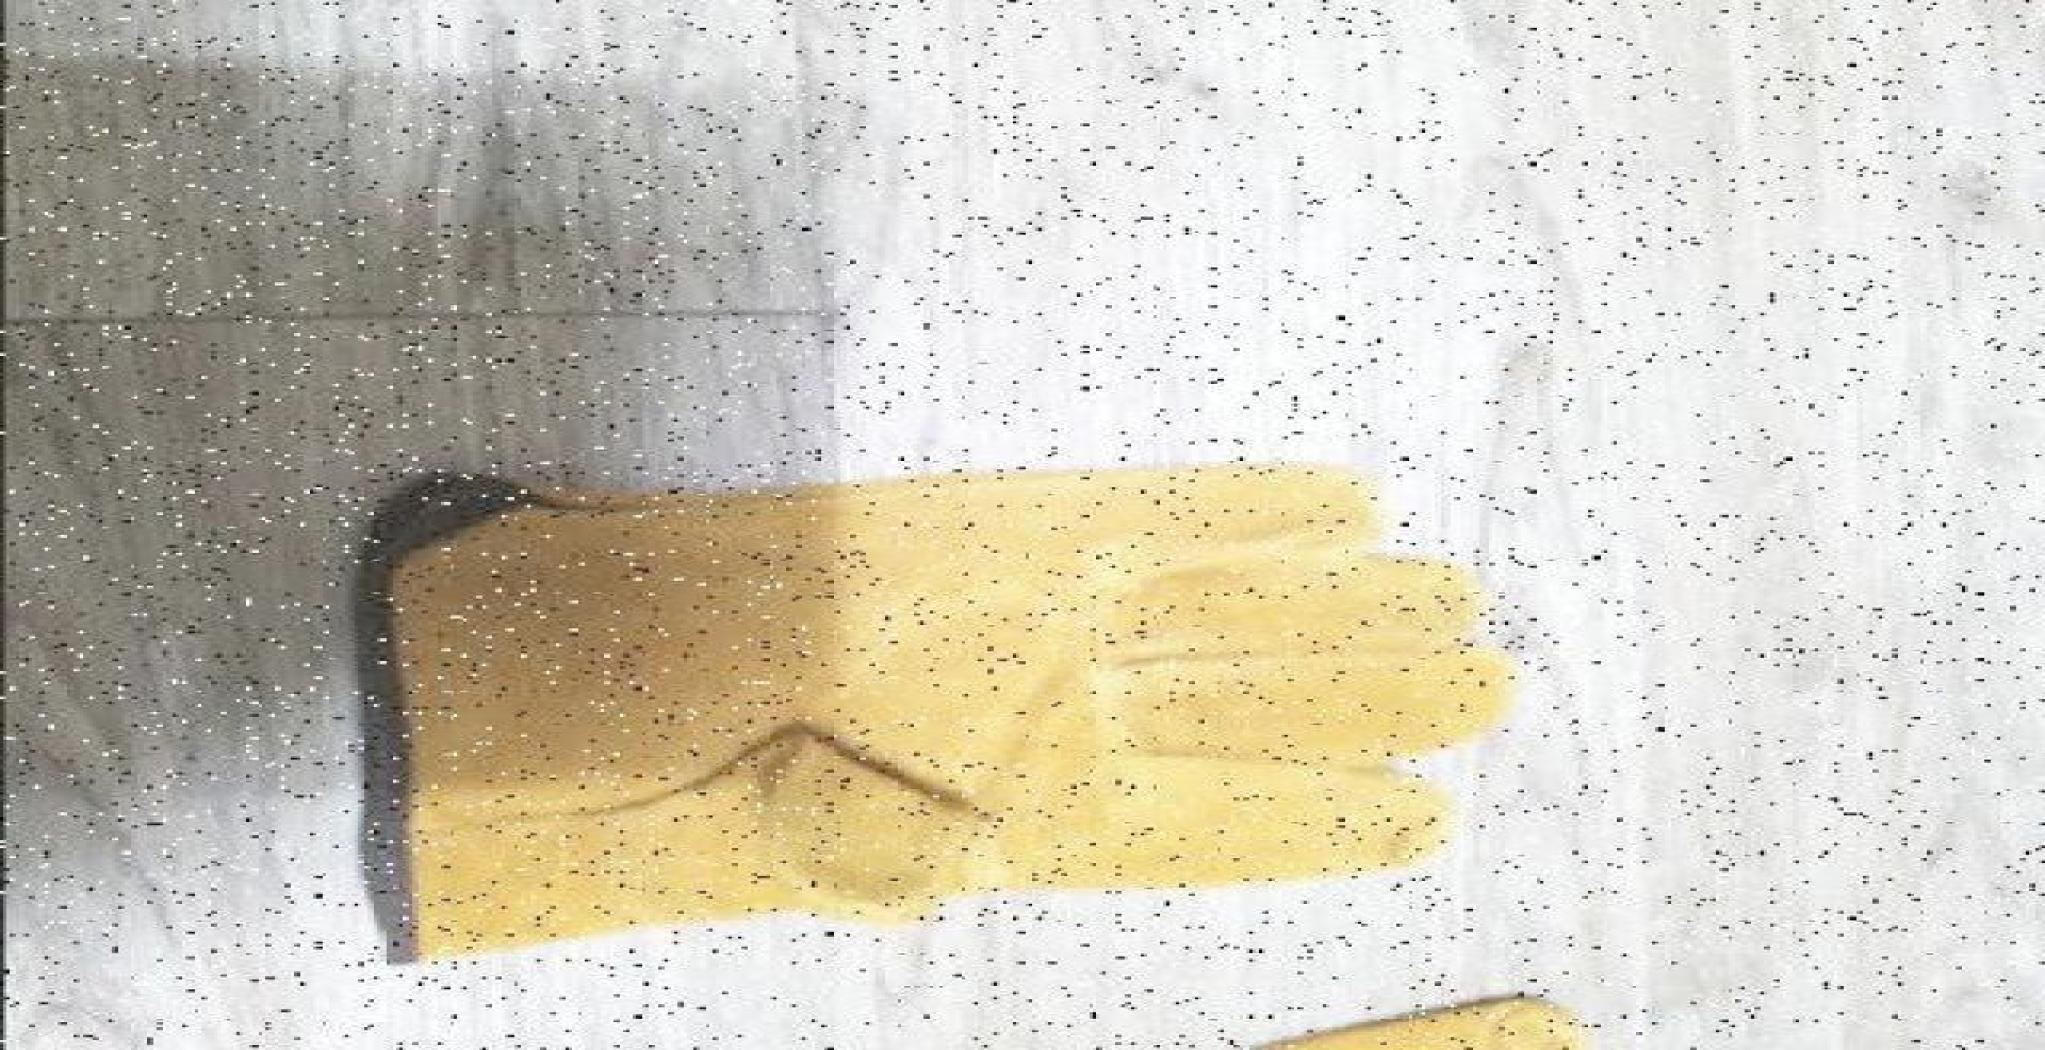gloved: (358, 459, 1517, 964)
